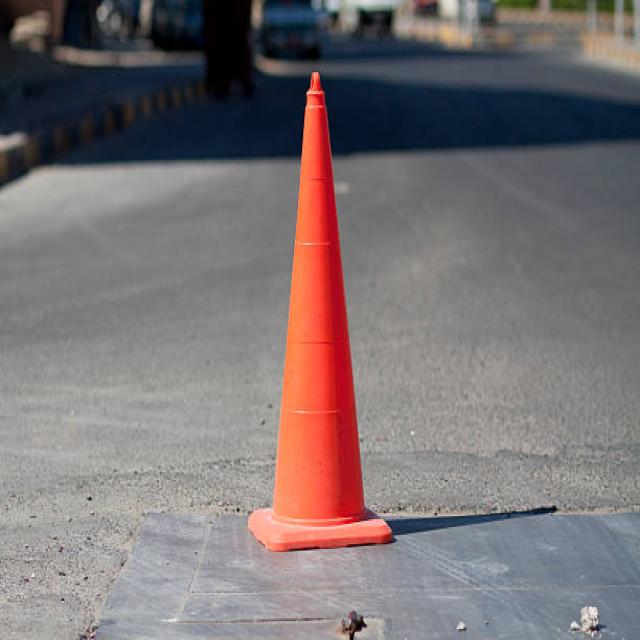Traffic Cone: (192, 49, 442, 582)
